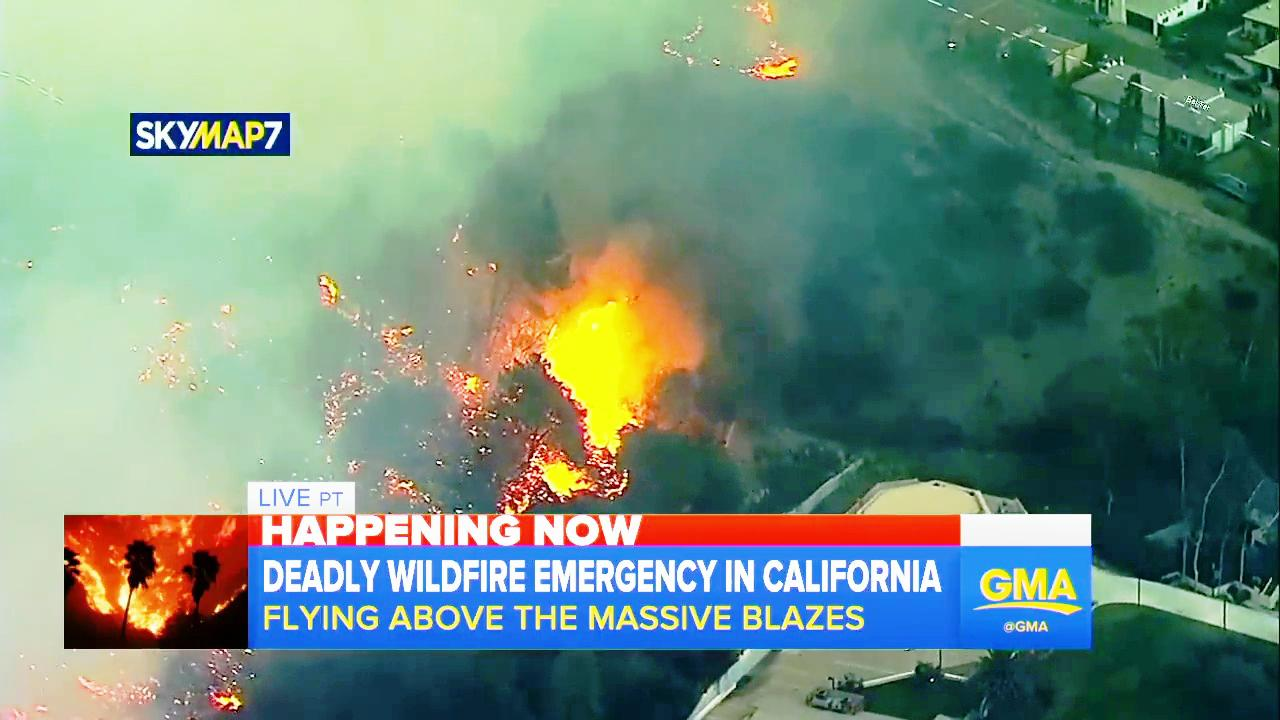fire: (531, 283, 655, 455), (748, 45, 801, 88), (313, 275, 341, 309)
smoke: (292, 0, 688, 249), (3, 246, 144, 510)
